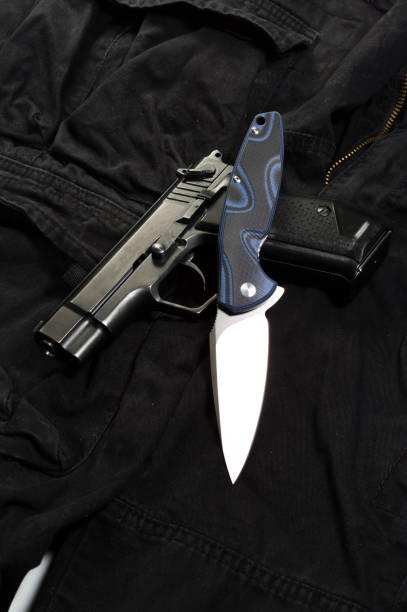gun: (36, 146, 395, 366)
knife: (210, 109, 288, 487)
